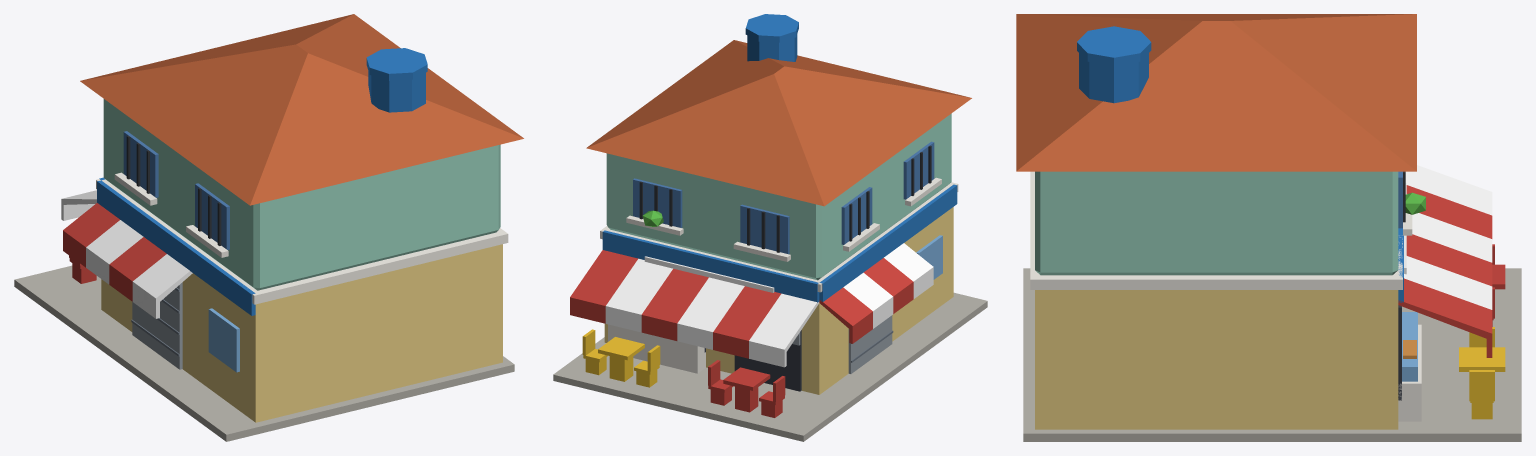
Rendered from padaria_toldo.glb.
3 renders of one model, left to right at view 1: azimuth 30°, elevation 25°; view 2: azimuth 150°, elevation 25°; view 3: azimuth 270°, elevation 25°, orthographic. The views are drawn at different scales.
Parts seen in each view (by area): view 1: corpo; view 2: corpo; view 3: corpo.
Part boxes in pixels (left/top/right/bottom): corpo: left=14, top=14, right=523, bottom=441; corpo: left=553, top=14, right=987, bottom=441; corpo: left=1016, top=14, right=1521, bottom=441.
Size of the model in its own units: 0.872 by 0.84 by 1.09.
